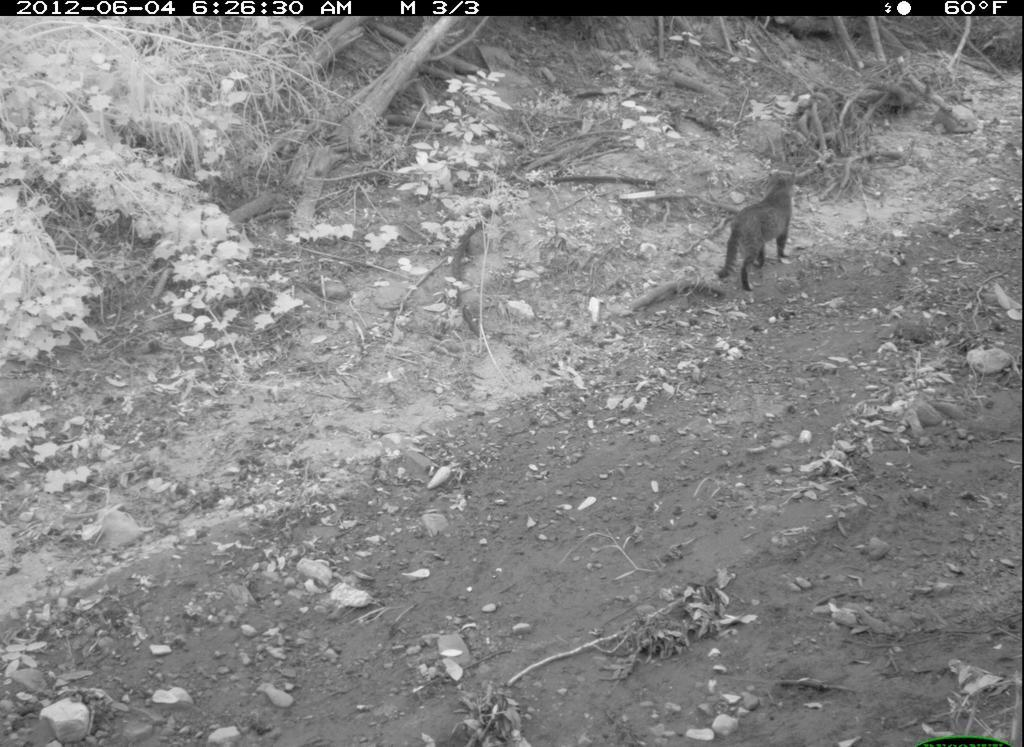cat: (716, 168, 803, 294)
